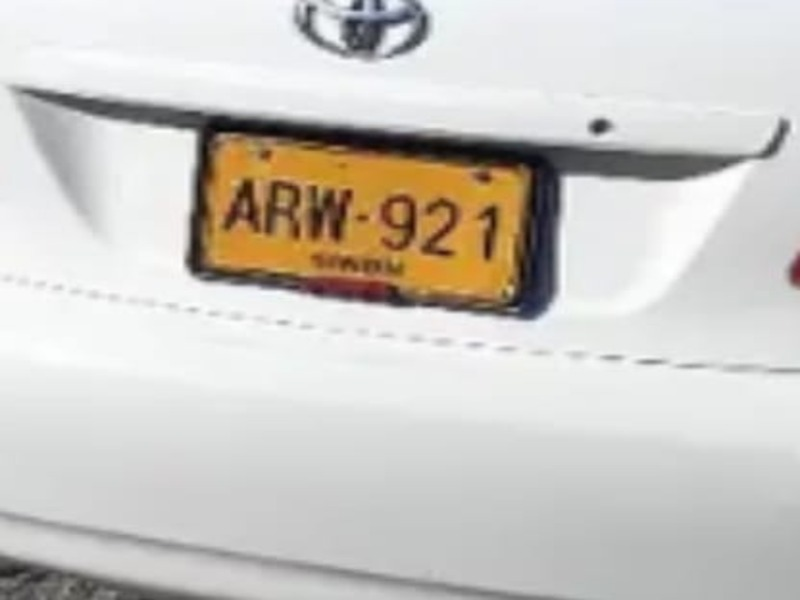License Plate: (182, 109, 554, 321)
